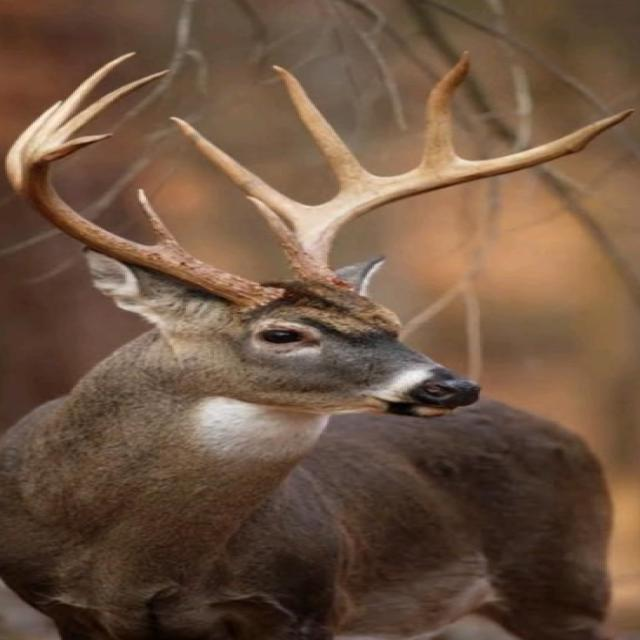L-G1: (244, 195, 351, 289)
L-G2: (170, 116, 314, 227)
L-G3: (270, 64, 378, 191)
L-G4: (418, 50, 471, 167)
R-F: (21, 133, 284, 312)
R-G1: (136, 188, 188, 253)
